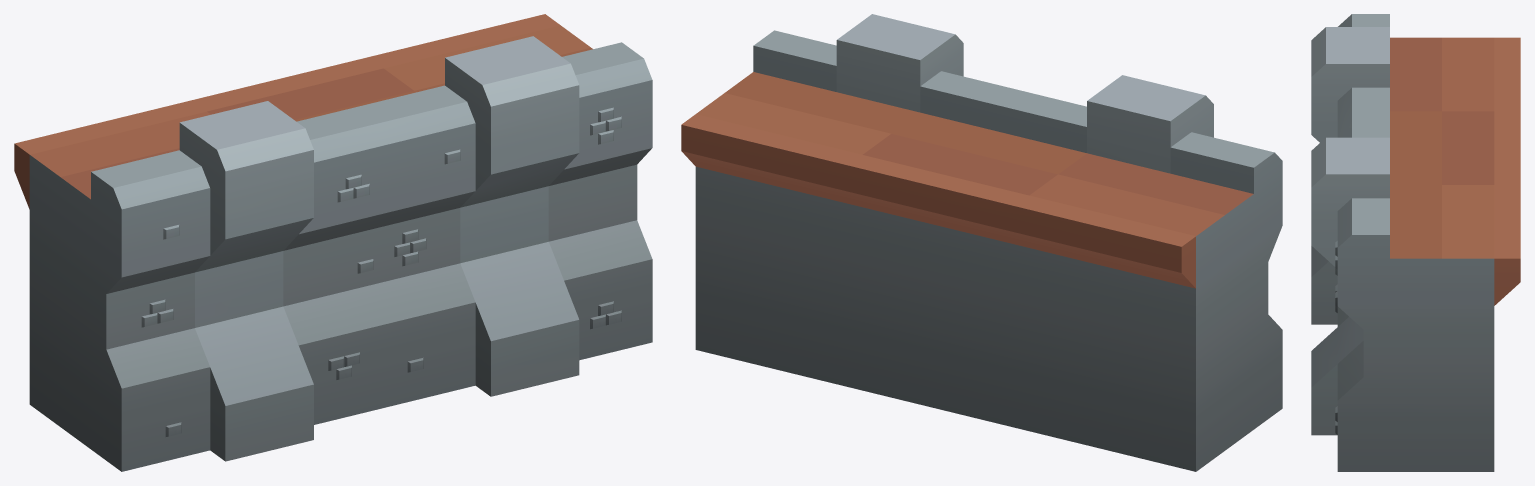
File: wall.glb
The picture shows the model from 3 angles, left to right: view 1: azimuth 30°, elevation 25°; view 2: azimuth 150°, elevation 25°; view 3: azimuth 270°, elevation 25°; orthographic projection. The views are drawn at different scales.
Parts seen in each view (by area): view 1: wall_straight; view 2: wall_straight; view 3: wall_straight.
Part boxes in pixels (x1=…): wall_straight: x1=14, y1=14, x2=652, y2=471; wall_straight: x1=681, y1=14, x2=1282, y2=471; wall_straight: x1=1311, y1=14, x2=1520, y2=471.
Bounding box in the file's own units: 2 × 1.1 × 0.7999.
Materials: 1 (1 with a texture image).
